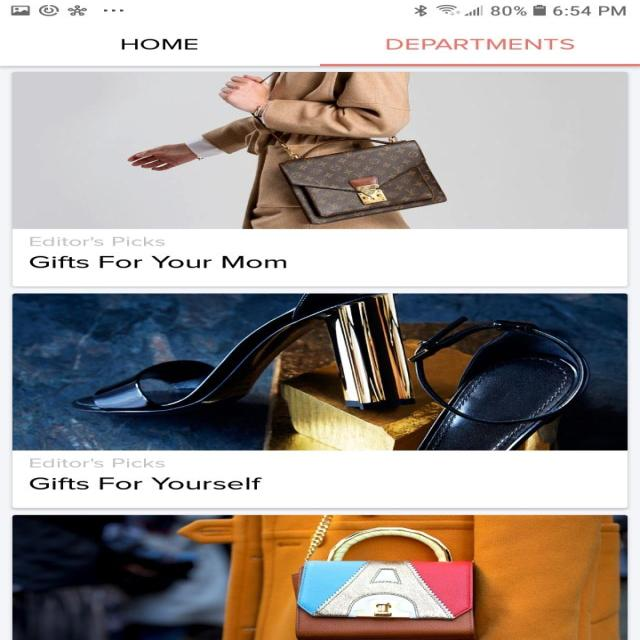Image: (10, 71, 628, 229), (11, 293, 626, 450), (11, 514, 626, 640)
Text: (30, 256, 286, 268), (29, 476, 262, 489), (386, 38, 574, 50), (30, 236, 166, 246), (31, 458, 166, 468), (120, 38, 198, 50)
